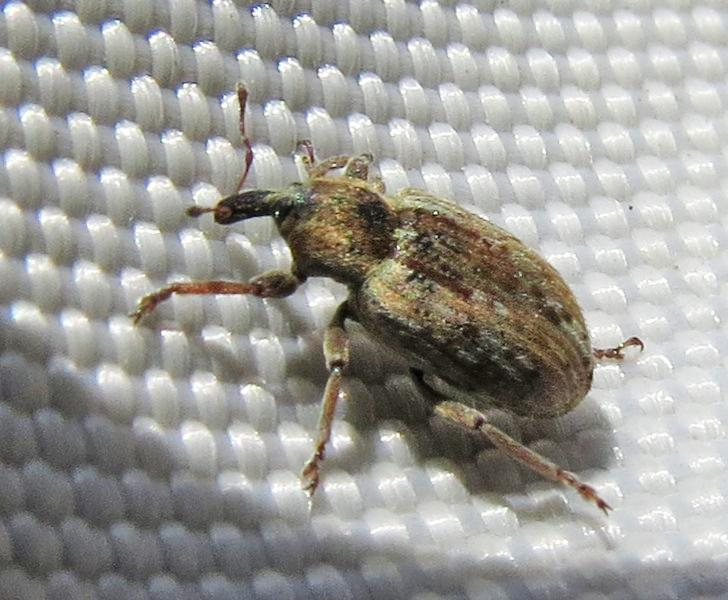weevils: (89, 46, 680, 586)
